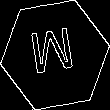M_S: (30, 27, 80, 83)
